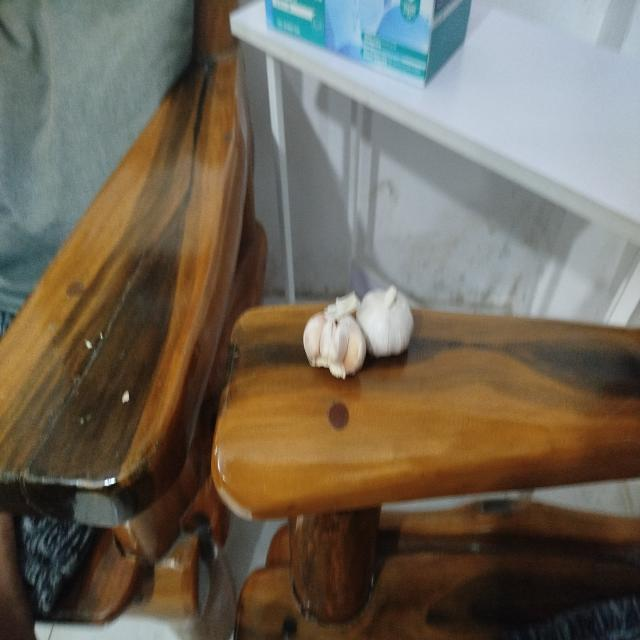garlic: (303, 291, 366, 380), (356, 284, 414, 358)
